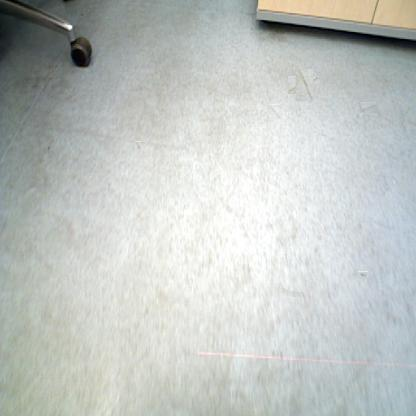mark: (291, 73, 317, 98), (360, 101, 376, 113), (268, 105, 281, 119), (359, 271, 368, 279), (135, 141, 141, 150), (78, 10, 84, 18), (48, 144, 53, 152)
